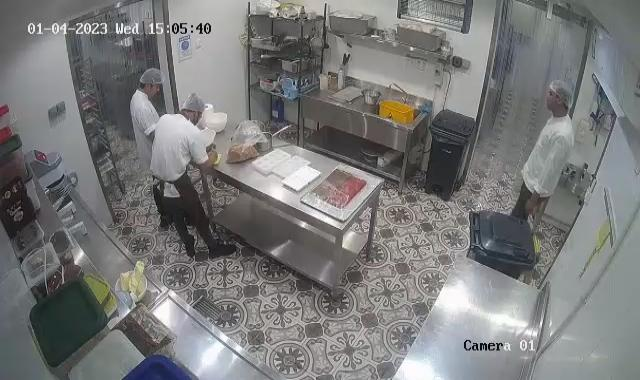hairnet: (547, 80, 576, 108), (179, 90, 202, 118), (138, 65, 164, 89)
